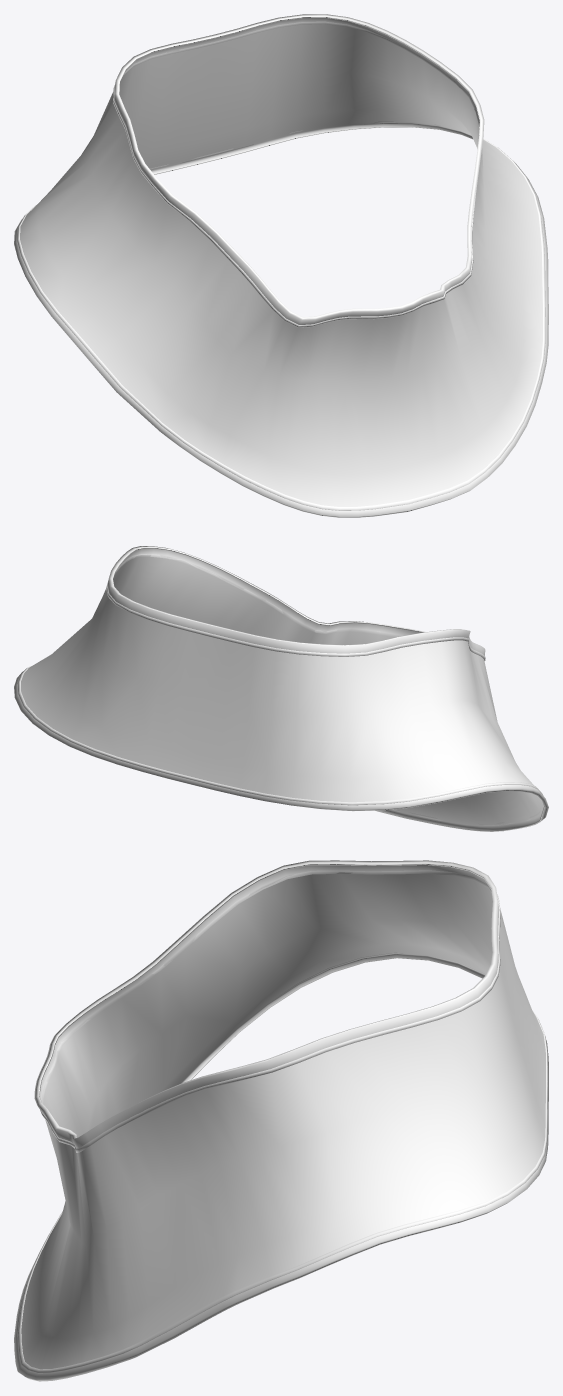
Rendered from Jac_Col.glb.
3 views of the same model, one above another, from view 1: azimuth 30°, elevation 25°; view 2: azimuth 150°, elevation 25°; view 3: azimuth 270°, elevation 25° (orthographic). The views are drawn at different scales.
Parts seen in each view (by area): view 1: Jac_Main1.001, Jac_Rope_Col.001; view 2: Jac_Main1.001, Jac_Rope_Col.001; view 3: Jac_Main1.001, Jac_Rope_Col.001.
Part boxes in pixels (x1,y1,x2,y2): Jac_Main1.001: (14, 14, 548, 517); Jac_Rope_Col.001: (17, 21, 545, 510); Jac_Main1.001: (14, 546, 548, 831); Jac_Rope_Col.001: (17, 554, 543, 825); Jac_Main1.001: (14, 860, 548, 1381); Jac_Rope_Col.001: (17, 870, 547, 1373).
Bounding box in the file's own units: 0.3027 × 0.1989 × 0.2318.
Materials: 2 (2 with a texture image).
